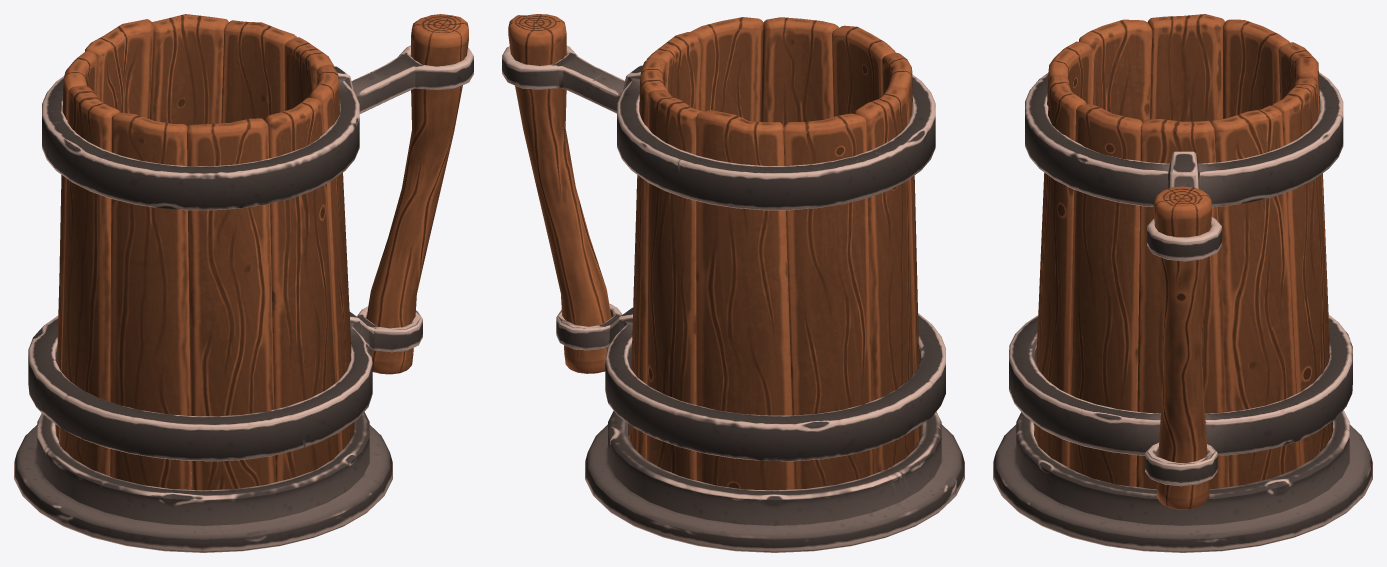
File: beer-mug.glb
The picture shows the model from 3 angles, left to right: view 1: azimuth 30°, elevation 25°; view 2: azimuth 150°, elevation 25°; view 3: azimuth 270°, elevation 25°; orthographic projection.
Visible parts, largest first — view 1: S_BeerMug_01a; view 2: S_BeerMug_01a; view 3: S_BeerMug_01a.
Boxes of the visible parts, x1,y1,x2,y2 form: S_BeerMug_01a: [14, 14, 473, 552]; S_BeerMug_01a: [502, 14, 964, 552]; S_BeerMug_01a: [993, 14, 1372, 552].
Bounding box in the file's own units: 0.2233 × 0.2008 × 0.1699.
1 material, 1 textured.
